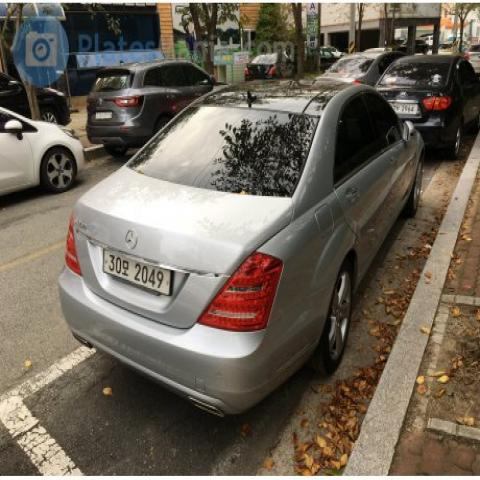LP: (99, 235, 181, 304)
